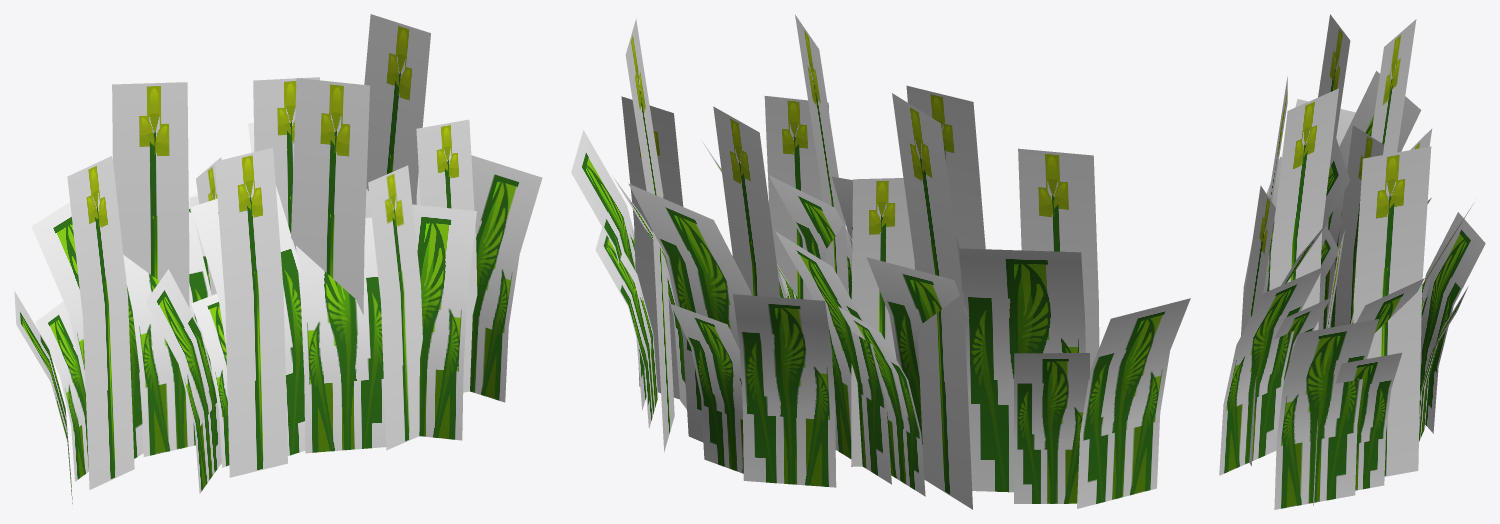
File: Grass_02b.FBX
3 renders of one model, left to right at view 1: azimuth 30°, elevation 25°; view 2: azimuth 150°, elevation 25°; view 3: azimuth 270°, elevation 25°, orthographic. The views are drawn at different scales.
Parts seen in each view (by area): view 1: Grass_02b; view 2: Grass_02b; view 3: Grass_02b.
Boxes of the visible parts, x1,y1,x2,y2 form: Grass_02b: (14, 14, 542, 504); Grass_02b: (571, 14, 1190, 509); Grass_02b: (1219, 14, 1485, 509).
Size of the model in its own units: 39.38 by 24.54 by 17.57.
Materials: 1 (1 with a texture image).
